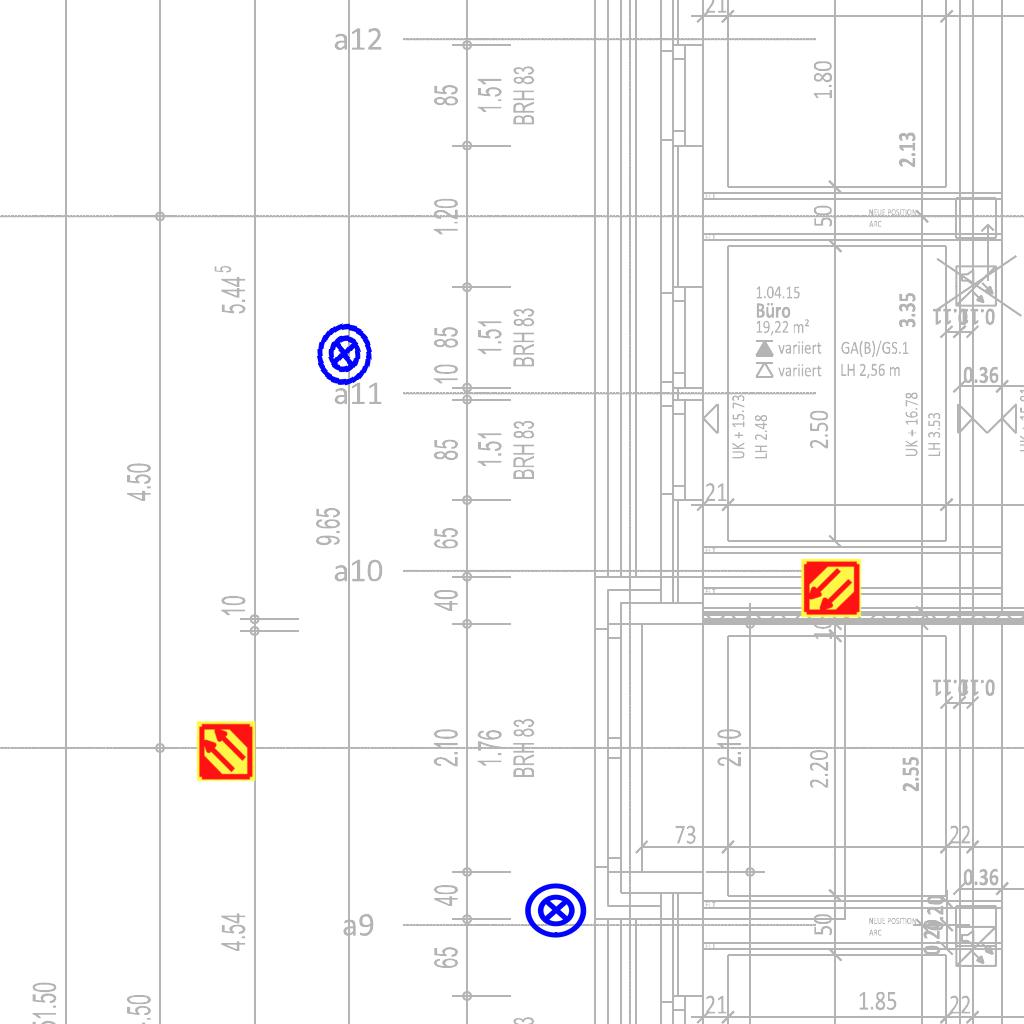ASR_Ansaugrauchmelder: (800, 557, 862, 619), (195, 720, 257, 782)
Taster_beleuchtet: (306, 316, 382, 392), (523, 877, 589, 943)
